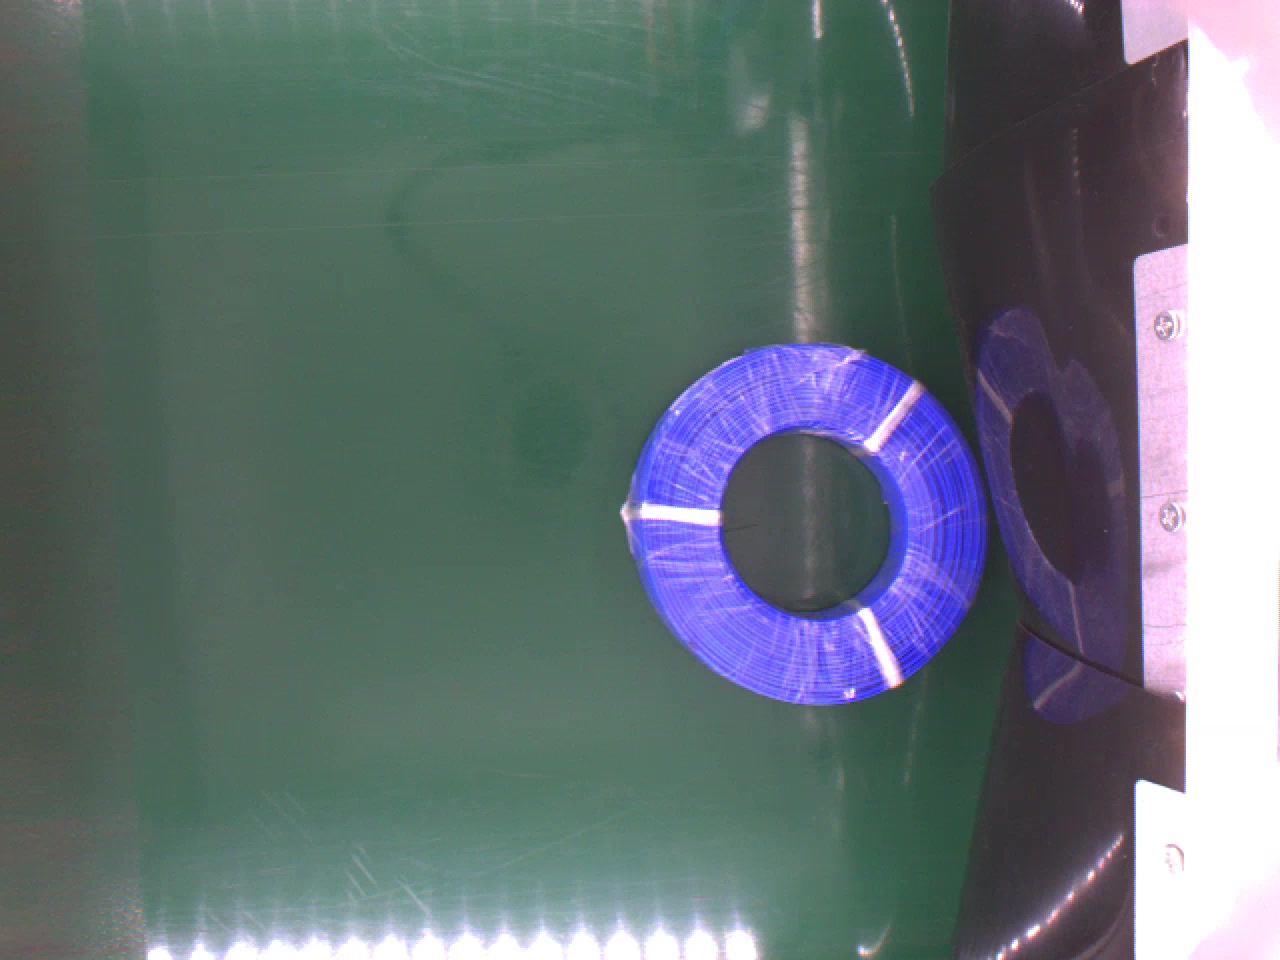blue: (624, 338, 986, 704)
